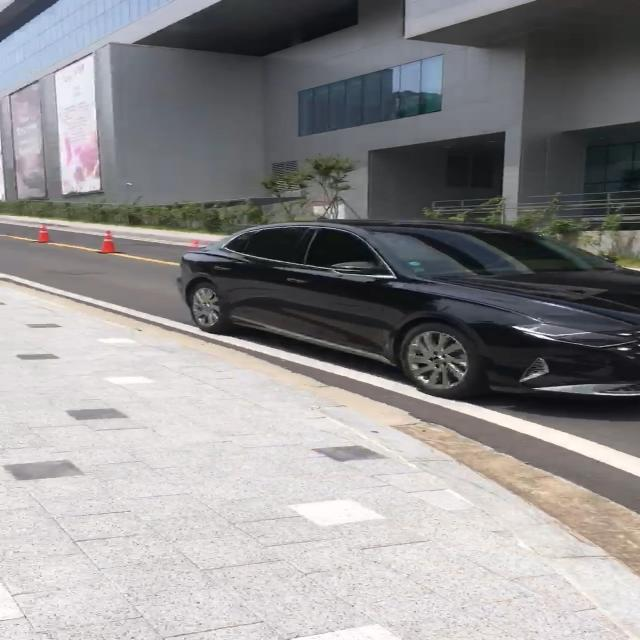obstacle: (179, 217, 640, 458), (25, 222, 59, 244), (95, 227, 121, 254)
road: (0, 219, 640, 584)
sidewalk: (0, 277, 640, 640), (6, 215, 228, 245)
